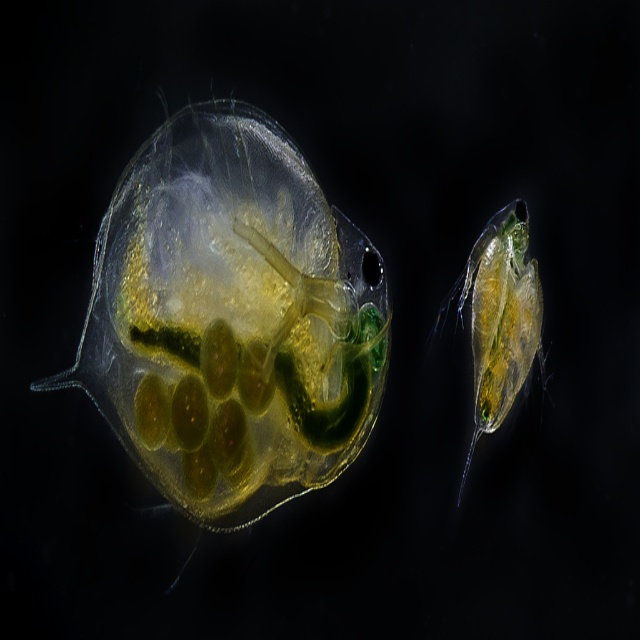Jellyfish: (46, 94, 381, 526)
